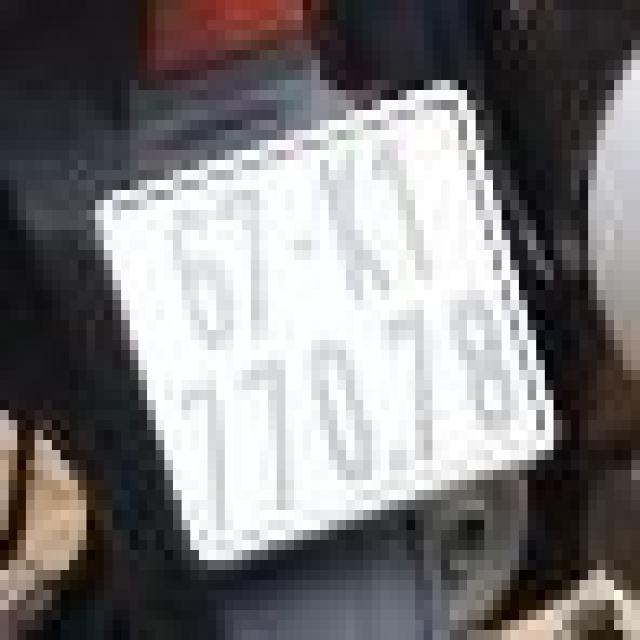0: (297, 317, 391, 496)
1: (363, 119, 457, 291)
6: (153, 191, 249, 363)
7: (202, 174, 303, 350), (166, 363, 253, 543), (238, 344, 319, 519), (377, 291, 455, 465)
8: (444, 263, 540, 450)
K: (306, 124, 405, 311)
